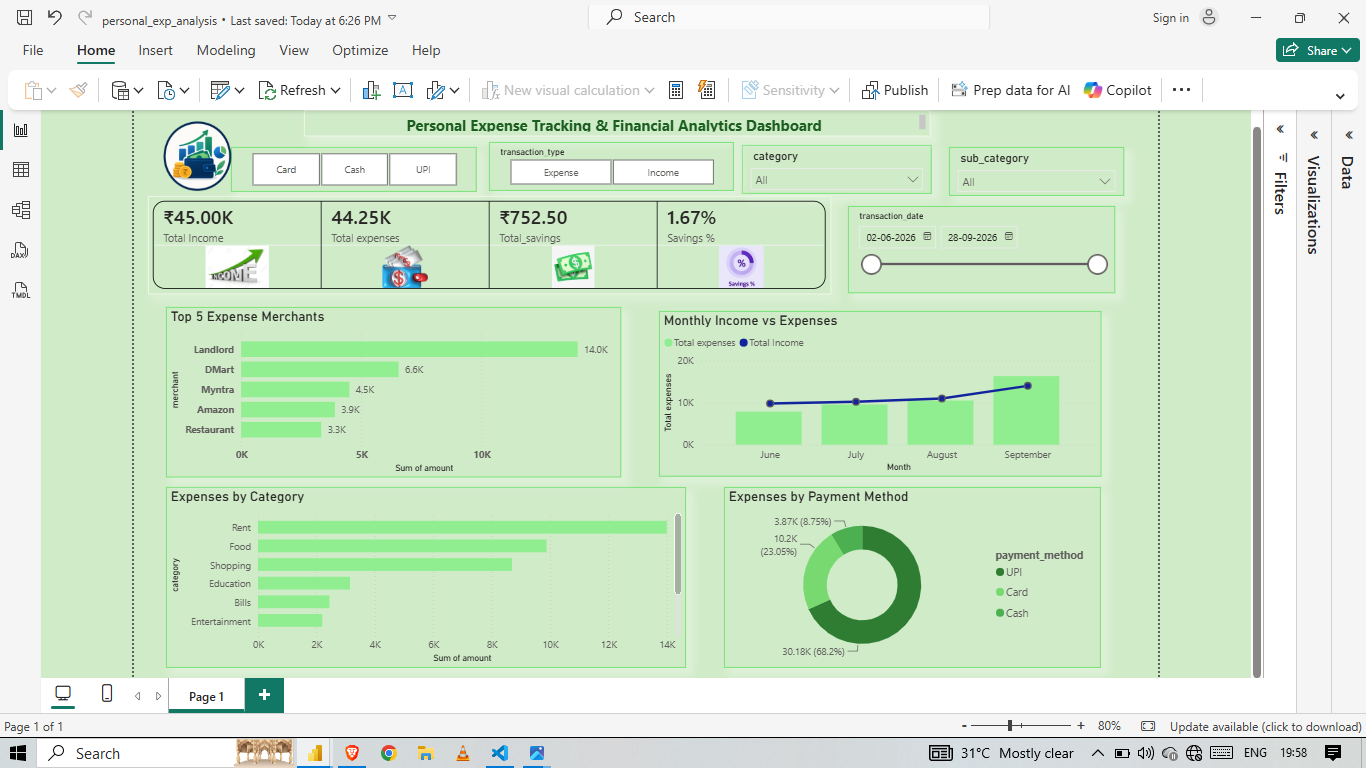

The dashboard page shown, as its layout file describes it:
{"tool":"powerbi","page":{"name":"Page 1","canvas":[1280,720],"ordinal":0},"visuals":[{"type":"lineClusteredColumnComboChart","title":"Monthly Income vs Expenses","fields":{"Category":["expense_transactions.transaction_date.Variation.Date Hierarchy.Month"],"Y":["key_measures.Total expenses"],"Y2":["key_measures.Total Income"]},"box":[655.7,261.4,552.9,207.1],"z":0},{"type":"slicer","fields":{"Values":["expense_transactions.category"]},"box":[786.2,53.3,236.2,60.5],"z":1000},{"type":"slicer","fields":{"Values":["expense_transactions.sub_category"]},"box":[1044,53.3,218.9,63.4],"z":2000},{"type":"slicer","fields":{"Values":["expense_transactions.payment_method"]},"box":[136.8,59,308.2,54.7],"z":3000},{"type":"clusteredBarChart","title":"Expenses by Category","fields":{"Category":["expense_transactions.category"],"Y":["Sum(expense_transactions.amount)"]},"box":[40,481.4,650,225.7],"z":4000},{"type":"donutChart","title":"Expenses by Payment Method","fields":{"Category":["expense_transactions.payment_method"],"Y":["Sum(expense_transactions.amount)"]},"box":[737.1,481.4,471.4,225.7],"z":5000},{"type":"clusteredBarChart","title":"Top 5 Expense Merchants","fields":{"Category":["expense_transactions.merchant"],"Y":["Sum(expense_transactions.amount)"]},"box":[40,255.7,568.6,212.9],"z":6000},{"type":"slicer","fields":{"Values":["expense_transactions.transaction_date"]},"box":[892.9,130,334.3,108.6],"z":7000},{"type":"textbox","box":[213.1,10.1,964.8,43.2],"z":8000},{"type":"slicer","fields":{"Values":["expense_transactions.transaction_type"]},"box":[456.5,53.3,305.3,60.5],"z":9000},{"type":"image","box":[0,0,167,129.6],"z":10000},{"type":"cardVisual","fields":{"Data":["key_measures.Total Income","key_measures.Total expenses","key_measures.Total_savings","key_measures.Savings %"]},"box":[17.1,117.1,854.3,122.9],"z":11000}]}

Visuals, with their boxes in screenshot pixels (x1, y1, x2, y2):
"Monthly Income vs Expenses" lineClusteredColumnComboChart: {"left": 672, "top": 264, "right": 1254, "bottom": 482}
slicer - expense_transactions.category: {"left": 810, "top": 45, "right": 1058, "bottom": 109}
slicer - expense_transactions.sub_category: {"left": 1081, "top": 45, "right": 1311, "bottom": 112}
slicer - expense_transactions.payment_method: {"left": 126, "top": 51, "right": 451, "bottom": 109}
"Expenses by Category" clusteredBarChart: {"left": 24, "top": 496, "right": 708, "bottom": 734}
"Expenses by Payment Method" donutChart: {"left": 758, "top": 496, "right": 1254, "bottom": 734}
"Top 5 Expense Merchants" clusteredBarChart: {"left": 24, "top": 258, "right": 623, "bottom": 482}
slicer - expense_transactions.transaction_date: {"left": 922, "top": 126, "right": 1274, "bottom": 240}
textbox: {"left": 206, "top": 0, "right": 1222, "bottom": 45}
slicer - expense_transactions.transaction_type: {"left": 463, "top": 45, "right": 784, "bottom": 109}
image: {"left": 0, "top": 0, "right": 158, "bottom": 126}
cardVisual - key_measures.Total Income x key_measures.Total expenses: {"left": 0, "top": 113, "right": 899, "bottom": 242}
